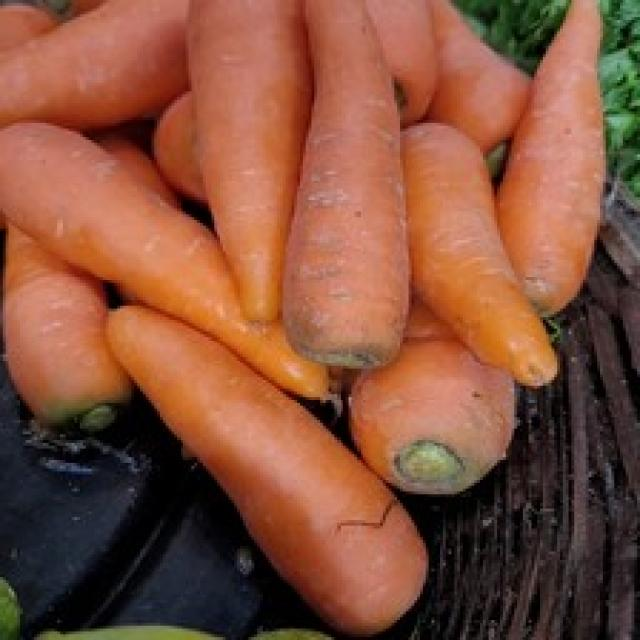Fresh_Carrot: (0, 106, 329, 391)
